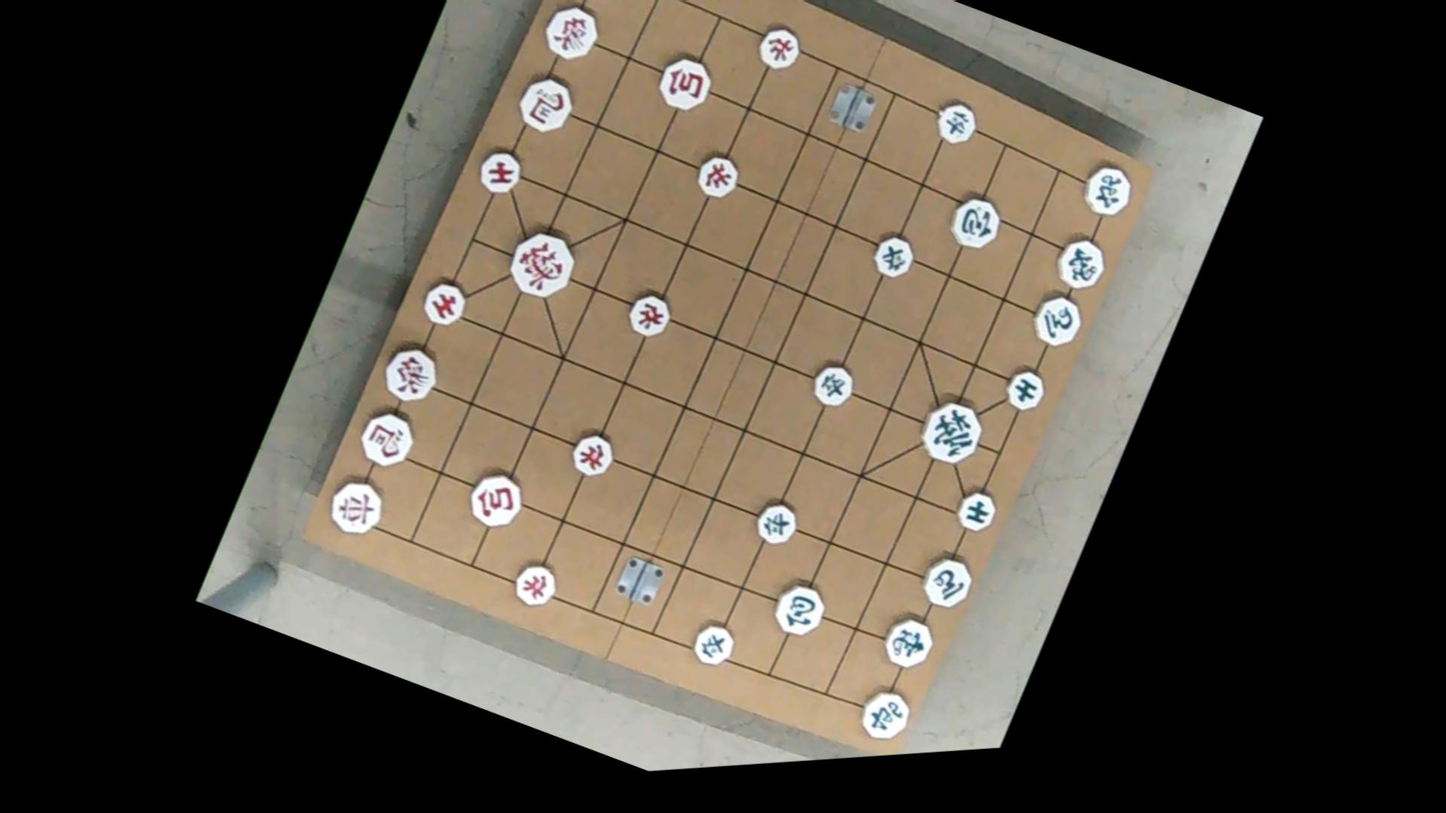cha_green: (853, 678, 919, 751), (1078, 158, 1139, 226)
cha_red: (321, 469, 387, 542), (568, 0, 634, 7)
jol_green: (807, 355, 859, 413), (930, 94, 981, 151), (688, 614, 738, 671), (869, 228, 919, 285), (752, 493, 801, 550)
jol_red: (564, 425, 622, 486), (510, 551, 566, 614), (623, 285, 680, 346), (754, 18, 805, 77), (693, 148, 744, 206)
ma_green: (915, 545, 977, 614), (1026, 279, 1087, 349)
ma_red: (354, 403, 419, 476), (513, 68, 578, 139)
po_green: (770, 573, 831, 644), (947, 189, 1006, 256)
po_red: (653, 44, 718, 116), (465, 463, 530, 534)
sa_green: (999, 360, 1048, 415), (953, 483, 1001, 537)
sa_red: (419, 273, 472, 334), (474, 142, 528, 201)
sang_green: (877, 604, 939, 674), (1051, 227, 1112, 294)
sang_red: (377, 335, 444, 408), (537, 0, 604, 71)
wang_green: (914, 390, 989, 472)
wang_red: (500, 221, 578, 306)
